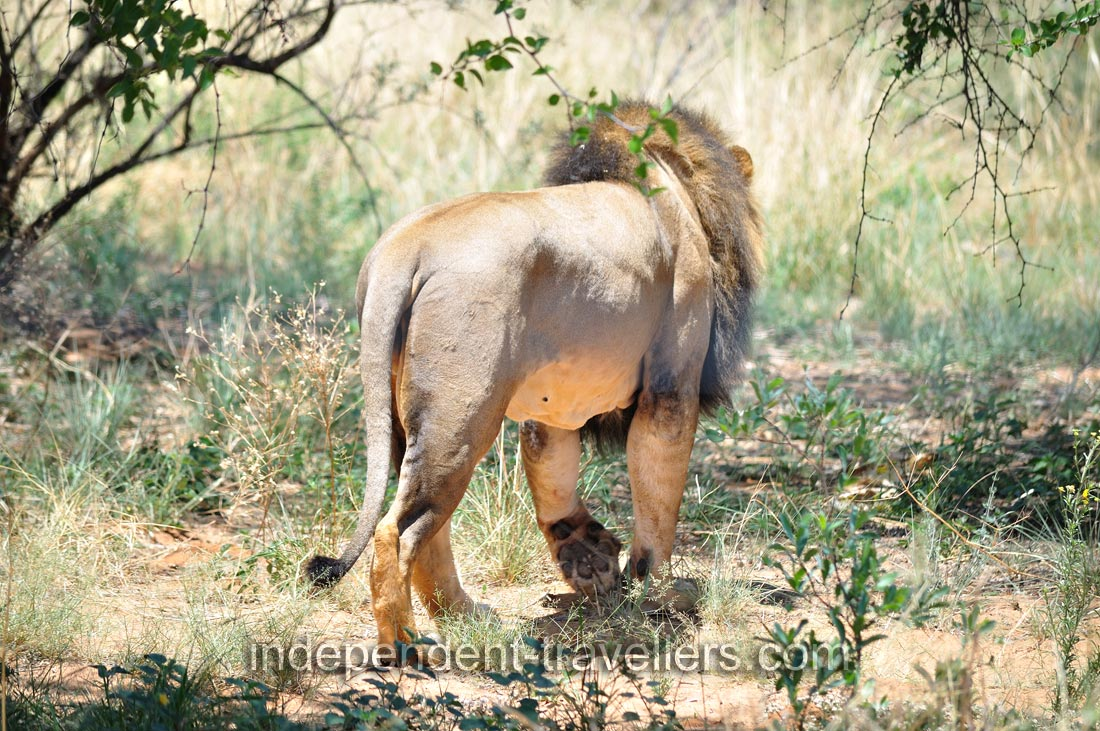lion: (301, 100, 772, 648)
